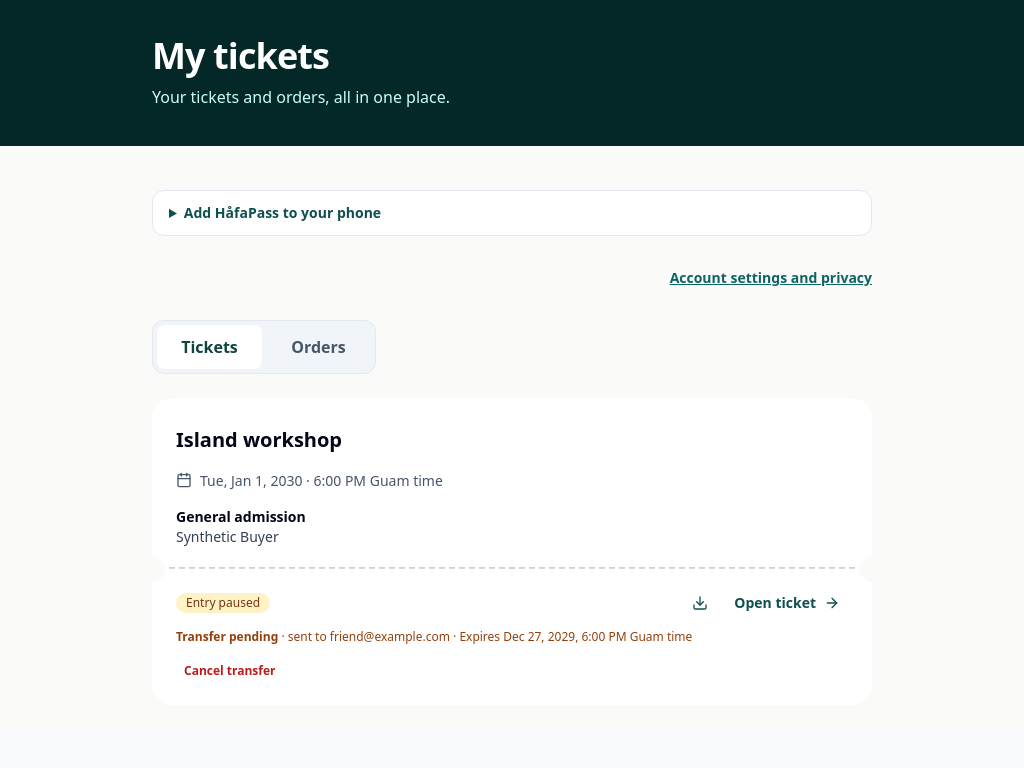
it: MyTicketsPage transfers › keeps the dialog open with an error when cancelling fails for another reason
Step 1. Click the button "Cancel transfer" → {"x": 230, "y": 671}, box [176,649,284,693]
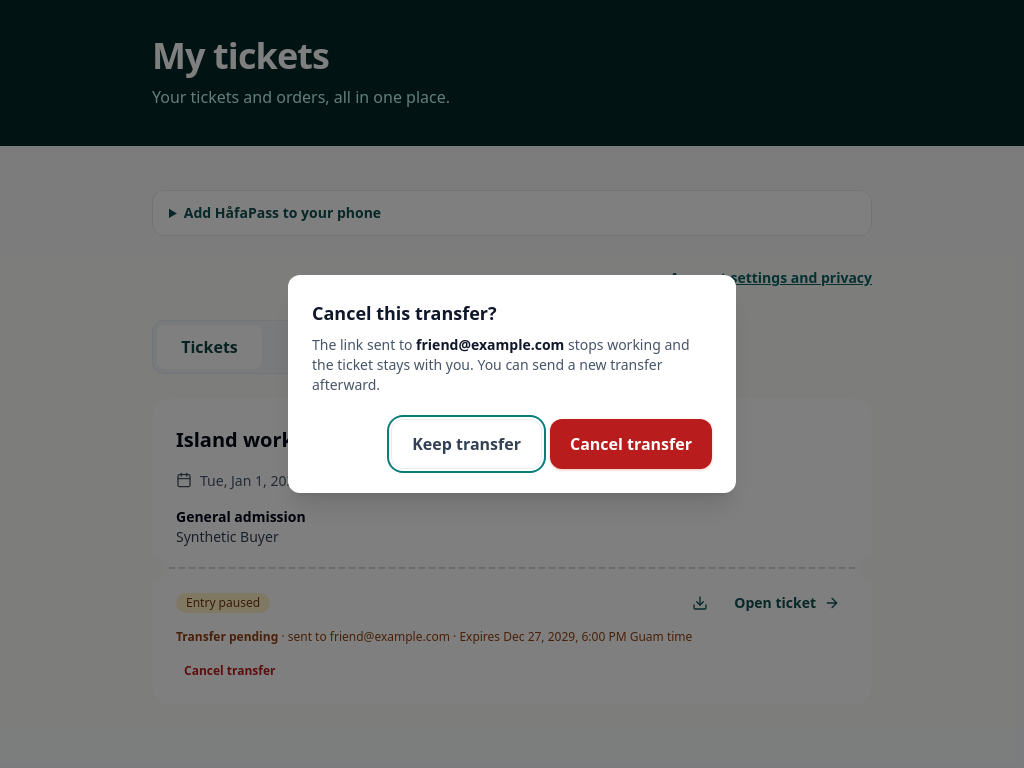
Step 2. Click the button "Cancel transfer" → {"x": 631, "y": 444}, box [550,419,712,469]
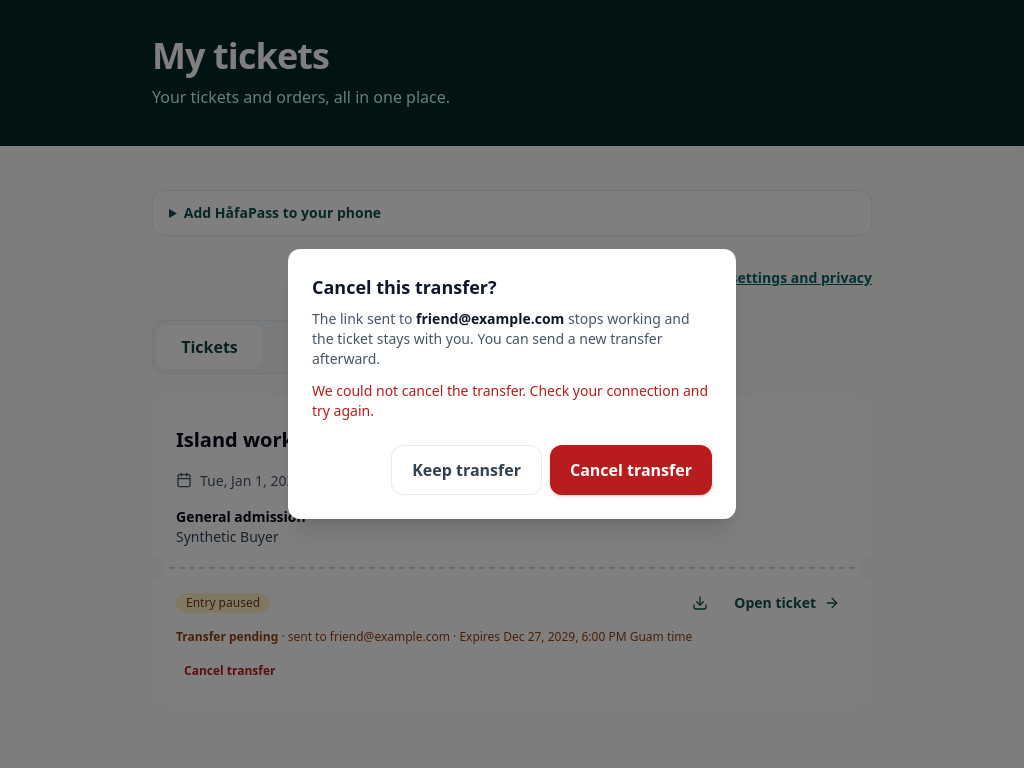
Check: the message shows "We could not cancel the transfer", box [312,381,708,420]
